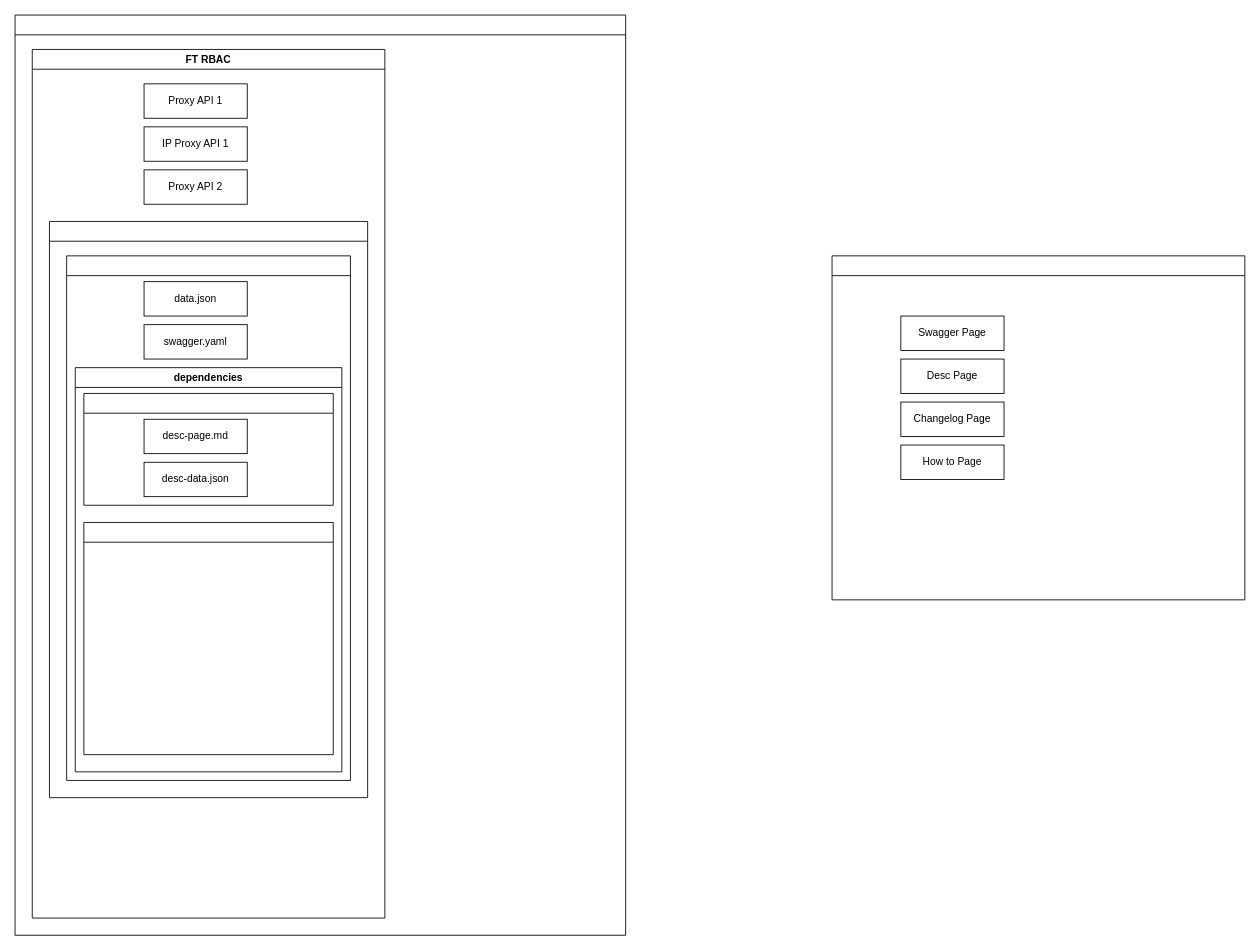
Some shapes in this 1260 by 950 pixel diagram are drawn without their labels. The shapes that lost their labels are listed below. From the top down, each one's box as (x1, y1, x2, y2) in pixels, then its label:
(831, 255, 1245, 600): Portal
(83, 393, 333, 505): description_page
(14, 14, 626, 935): Gitlab
(66, 255, 350, 780): api_doc_v1.0.0
(49, 221, 368, 798): Documentation
(83, 522, 333, 755): basic_page
